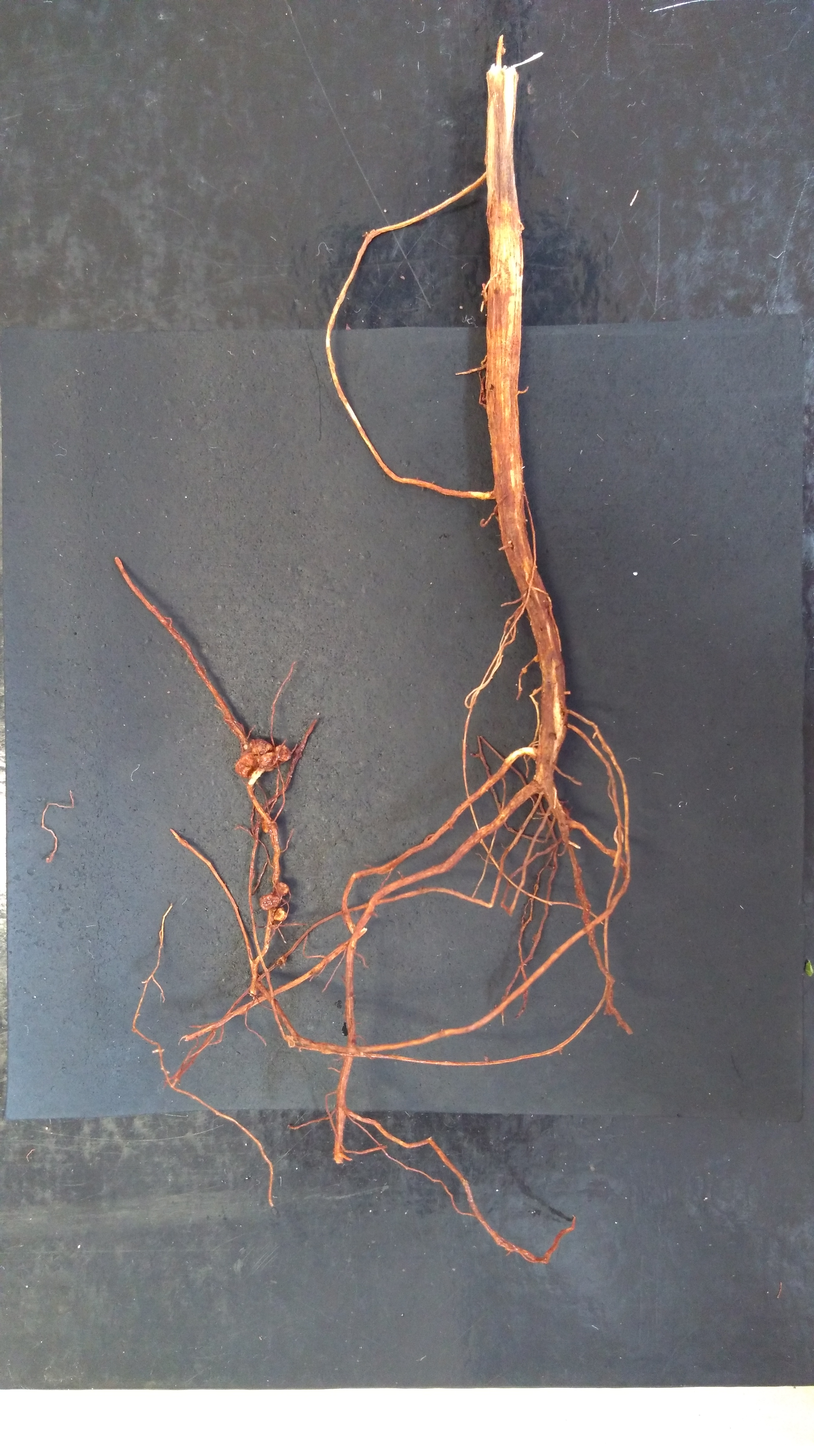nodule: (233, 751, 259, 778), (257, 751, 279, 772), (249, 738, 274, 756), (261, 812, 279, 834), (259, 894, 281, 911), (275, 744, 293, 762), (274, 882, 291, 897), (272, 907, 288, 922)
